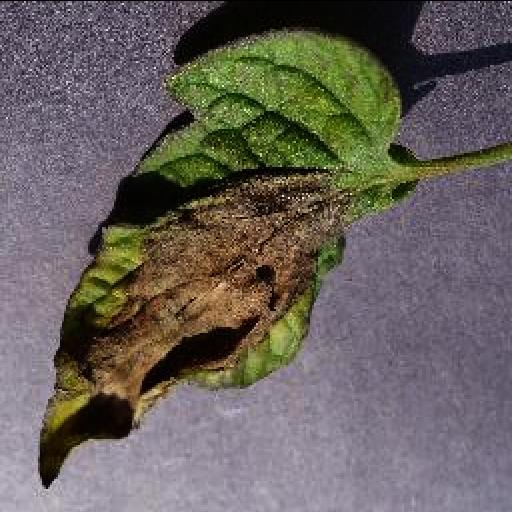disease_tomato: (36, 28, 410, 488)
